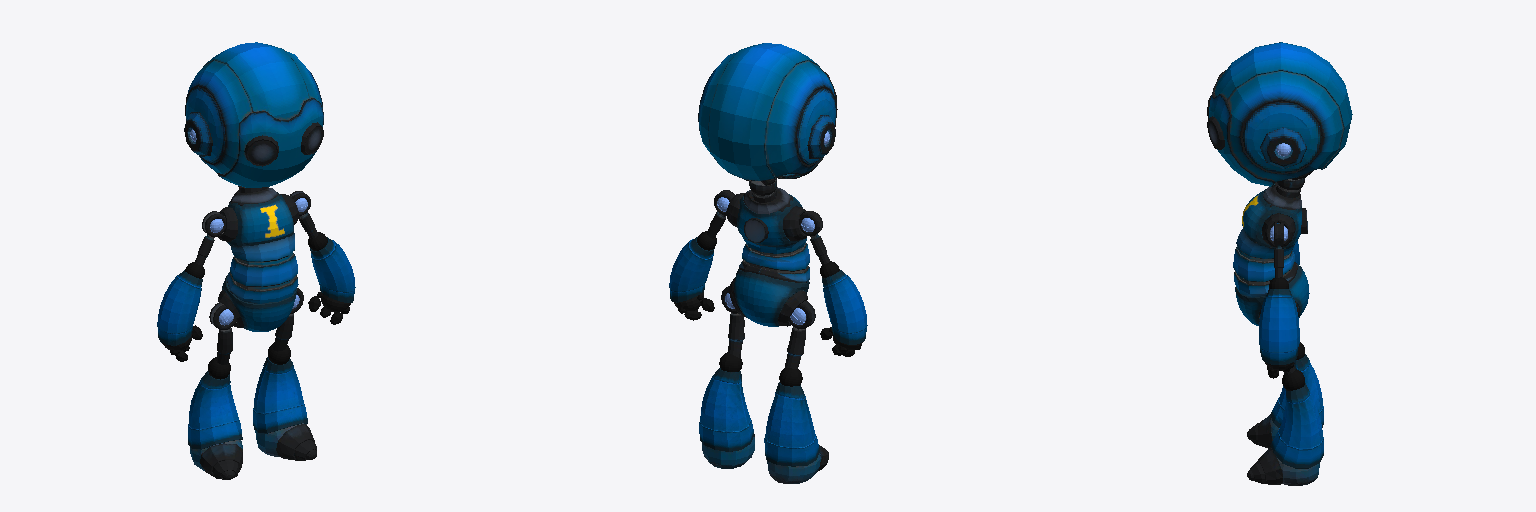
3 renders of one model, left to right at view 1: azimuth 30°, elevation 25°; view 2: azimuth 150°, elevation 25°; view 3: azimuth 270°, elevation 25°, orthographic.
Parts seen in each view (by area): view 1: Red_Robot Red_Robot head, head_plate Red_Robot Red_Robot, Red_Robot Red_Robot middle_body middle_body, Red_Robot Red_Robot legs right_leg leg_down_right, Red_Robot Red_Robot leg_down_left left_leg legs, Red_Robot Red_Robot right_arm arms arm_down_right, Red_Robot Red_Robot chest middle_body, Red_Robot Red_Robot arms arm_down_left left_arm, Red_Robot Red_Robot middle_body lower_body, Red_Robot Red_Robot head_right_plate, Red_Robot Red_Robot ear_right ears, Red_Robot Red_Robot legs right_leg right_foot foot_part_2_right (+3 smaller); view 2: Red_Robot Red_Robot head, Red_Robot Red_Robot legs right_leg leg_down_right, Red_Robot Red_Robot leg_down_left left_leg legs, Red_Robot Red_Robot middle_body lower_body, Red_Robot Red_Robot right_arm arms arm_down_right, Red_Robot Red_Robot middle_body middle_body, Red_Robot Red_Robot arms arm_down_left left_arm, Red_Robot Red_Robot head_right_plate, Red_Robot Red_Robot chest middle_body, Red_Robot Red_Robot ear_right ears, Red_Robot Red_Robot left_leg legs foot_main_left left_foot, Red_Robot Red_Robot legs right_leg foot_main_right right_foot (+4 smaller); view 3: Red_Robot Red_Robot head, Red_Robot Red_Robot leg_down_left left_leg legs, Red_Robot Red_Robot head_left_plate, Red_Robot Red_Robot arms arm_down_left left_arm, Red_Robot Red_Robot middle_body middle_body, Red_Robot Red_Robot chest middle_body, head_plate Red_Robot Red_Robot, Red_Robot Red_Robot ears ear_left, Red_Robot Red_Robot middle_body lower_body, Red_Robot Red_Robot legs right_leg leg_down_right, Red_Robot Red_Robot left_leg legs foot_main_left left_foot, Red_Robot Red_Robot left_leg legs left_foot foot_part_2_left (+2 smaller).
Boxes of the visible parts, <box> form: Red_Robot Red_Robot head: <box>185,42,323,174</box>; head_plate Red_Robot Red_Robot: <box>217,98,323,187</box>; Red_Robot Red_Robot middle_body middle_body: <box>227,233,298,303</box>; Red_Robot Red_Robot legs right_leg leg_down_right: <box>188,371,242,449</box>; Red_Robot Red_Robot leg_down_left left_leg legs: <box>253,357,307,433</box>; Red_Robot Red_Robot right_arm arms arm_down_right: <box>157,270,202,345</box>; Red_Robot Red_Robot chest middle_body: <box>227,192,293,246</box>; Red_Robot Red_Robot arms arm_down_left left_arm: <box>310,237,355,302</box>; Red_Robot Red_Robot middle_body lower_body: <box>222,272,296,331</box>; Red_Robot Red_Robot head_right_plate: <box>186,86,225,163</box>; Red_Robot Red_Robot ear_right ears: <box>184,112,212,156</box>; Red_Robot Red_Robot legs right_leg right_foot foot_part_2_right: <box>200,443,242,476</box>; Red_Robot Red_Robot head: <box>698,43,836,180</box>; Red_Robot Red_Robot legs right_leg leg_down_right: <box>764,382,819,466</box>; Red_Robot Red_Robot leg_down_left left_leg legs: <box>699,368,753,451</box>; Red_Robot Red_Robot middle_body lower_body: <box>734,269,809,326</box>; Red_Robot Red_Robot right_arm arms arm_down_right: <box>822,270,867,344</box>; Red_Robot Red_Robot middle_body middle_body: <box>739,238,809,282</box>; Red_Robot Red_Robot arms arm_down_left left_arm: <box>669,237,714,302</box>; Red_Robot Red_Robot head_right_plate: <box>796,88,835,164</box>; Red_Robot Red_Robot chest middle_body: <box>737,191,802,246</box>; Red_Robot Red_Robot ear_right ears: <box>807,115,835,158</box>; Red_Robot Red_Robot left_leg legs foot_main_left left_foot: <box>702,437,754,468</box>; Red_Robot Red_Robot legs right_leg foot_main_right right_foot: <box>767,453,820,483</box>; Red_Robot Red_Robot head: <box>1214,42,1352,185</box>; Red_Robot Red_Robot leg_down_left left_leg legs: <box>1270,383,1323,468</box>; Red_Robot Red_Robot head_left_plate: <box>1242,101,1321,172</box>; Red_Robot Red_Robot arms arm_down_left left_arm: <box>1259,289,1299,364</box>; Red_Robot Red_Robot middle_body middle_body: <box>1233,223,1297,297</box>; Red_Robot Red_Robot chest middle_body: <box>1242,189,1301,249</box>; head_plate Red_Robot Red_Robot: <box>1209,70,1274,186</box>; Red_Robot Red_Robot ears ear_left: <box>1260,127,1306,168</box>; Red_Robot Red_Robot middle_body lower_body: <box>1235,264,1309,325</box>; Red_Robot Red_Robot legs right_leg leg_down_right: <box>1270,354,1323,427</box>; Red_Robot Red_Robot left_leg legs foot_main_left left_foot: <box>1277,458,1319,485</box>; Red_Robot Red_Robot left_leg legs left_foot foot_part_2_left: <box>1258,447,1282,484</box>.
Size of the model in its own units: 58.67 by 120 by 38.09.
1 materials, 1 textured.